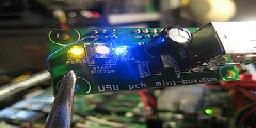LED: (112, 43, 132, 60), (68, 44, 83, 61)
